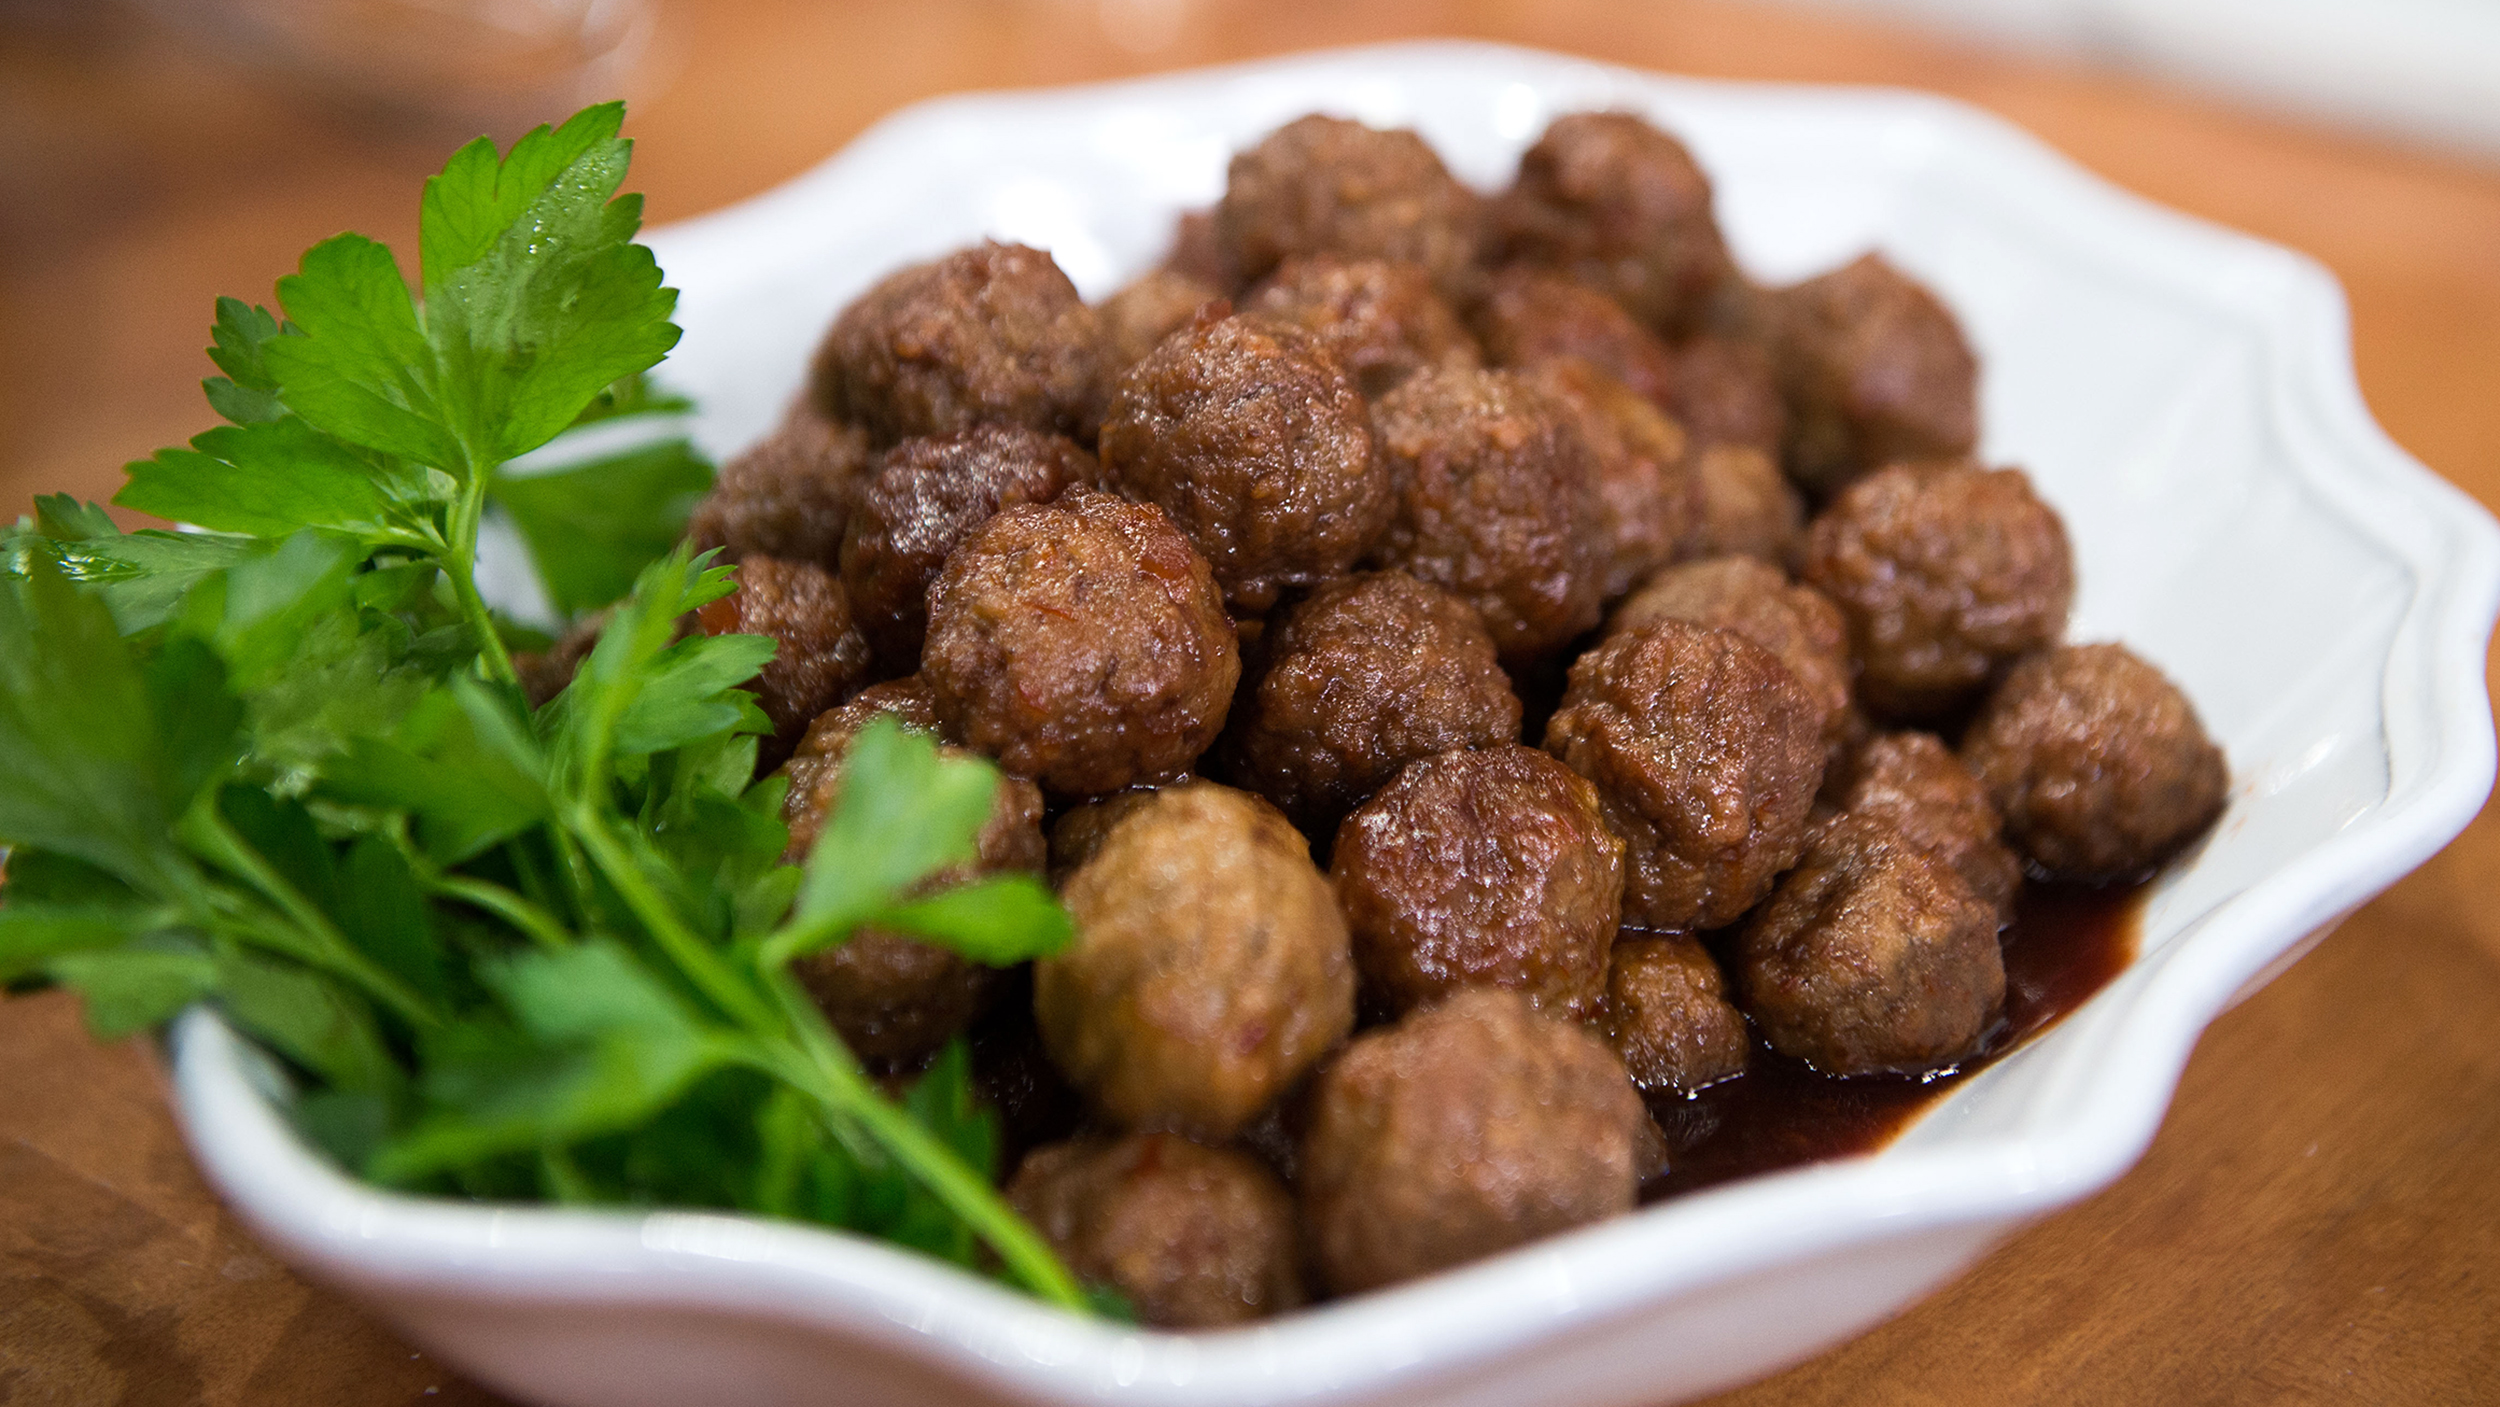meatballs: (987, 283, 2098, 1022)
